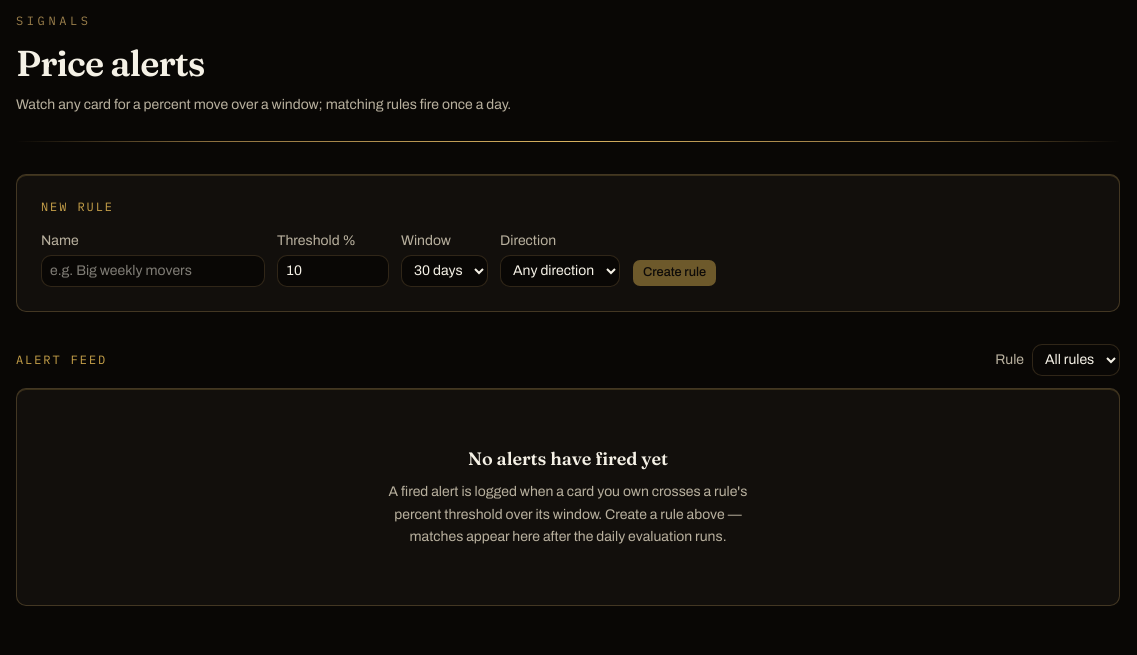
Test: AlertsPage — create rule form › re-seeds the CSRF cookie when create returns 403 (recoverable without reload)
Type "x" into the field named "rule name".
click(153, 271); type("x")  # box x1=41 y1=255 x2=265 y2=287
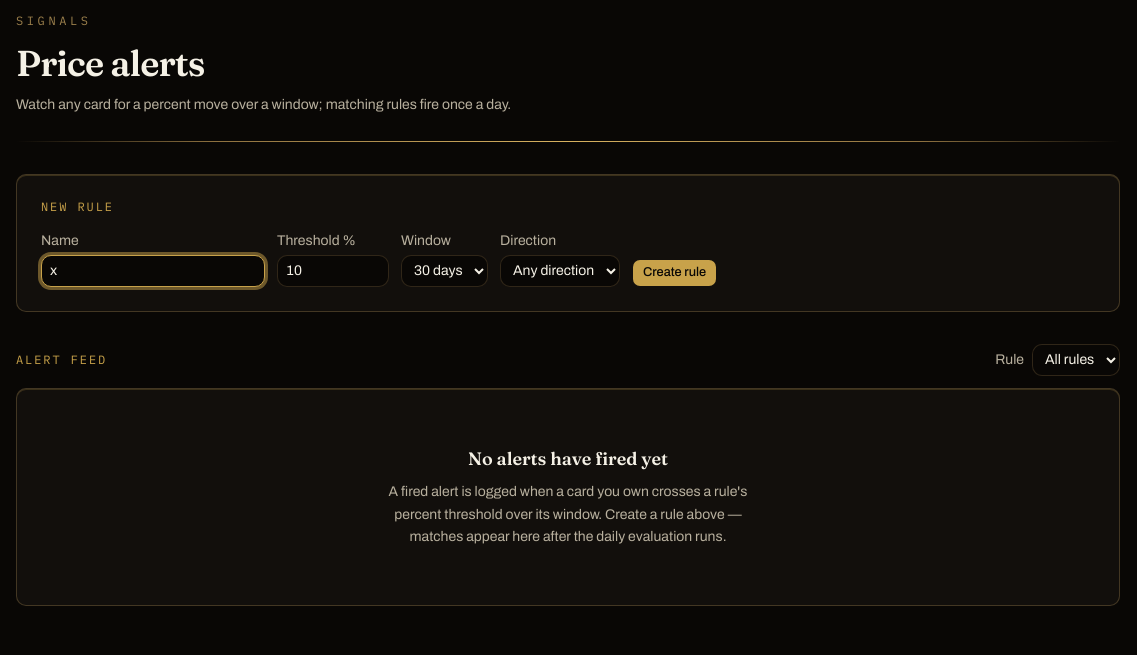
Click the button "Create rule".
click(675, 273)  # box x1=632 y1=259 x2=717 y2=287
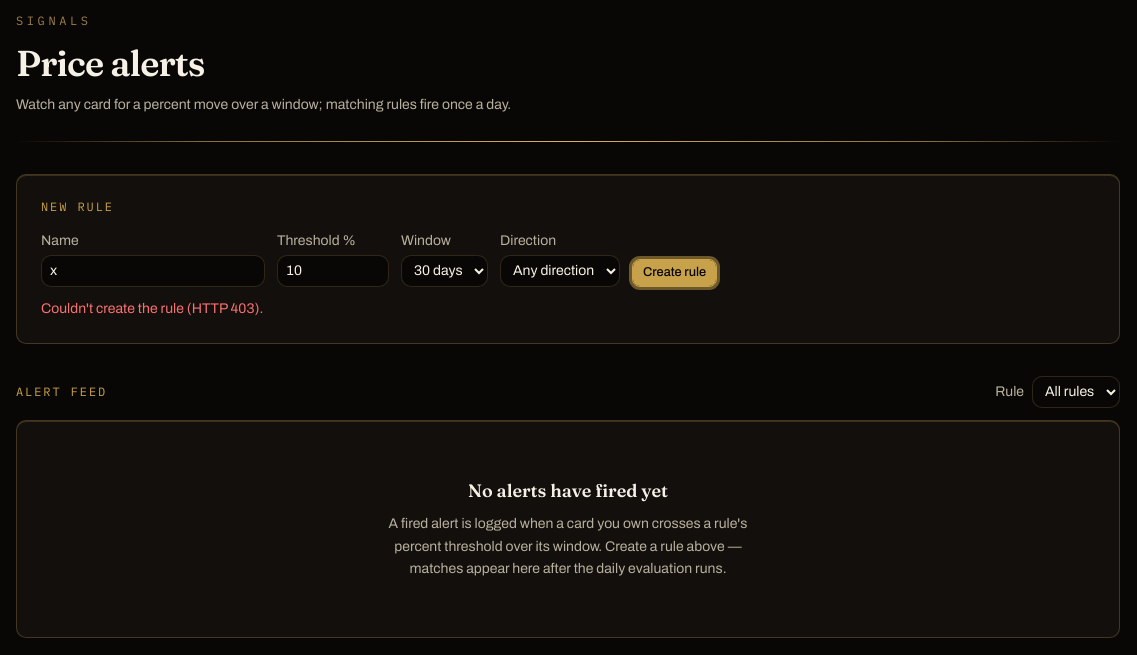
Check: the message shows "HTTP 403", box x1=41 y1=301 x2=263 y2=316
